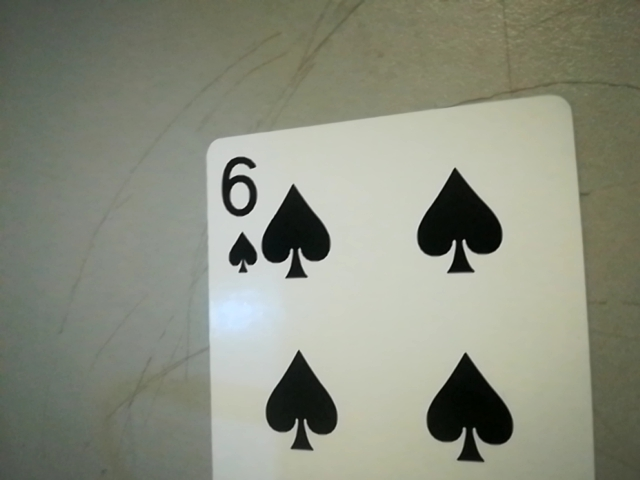ht 6: (209, 149, 266, 278)
